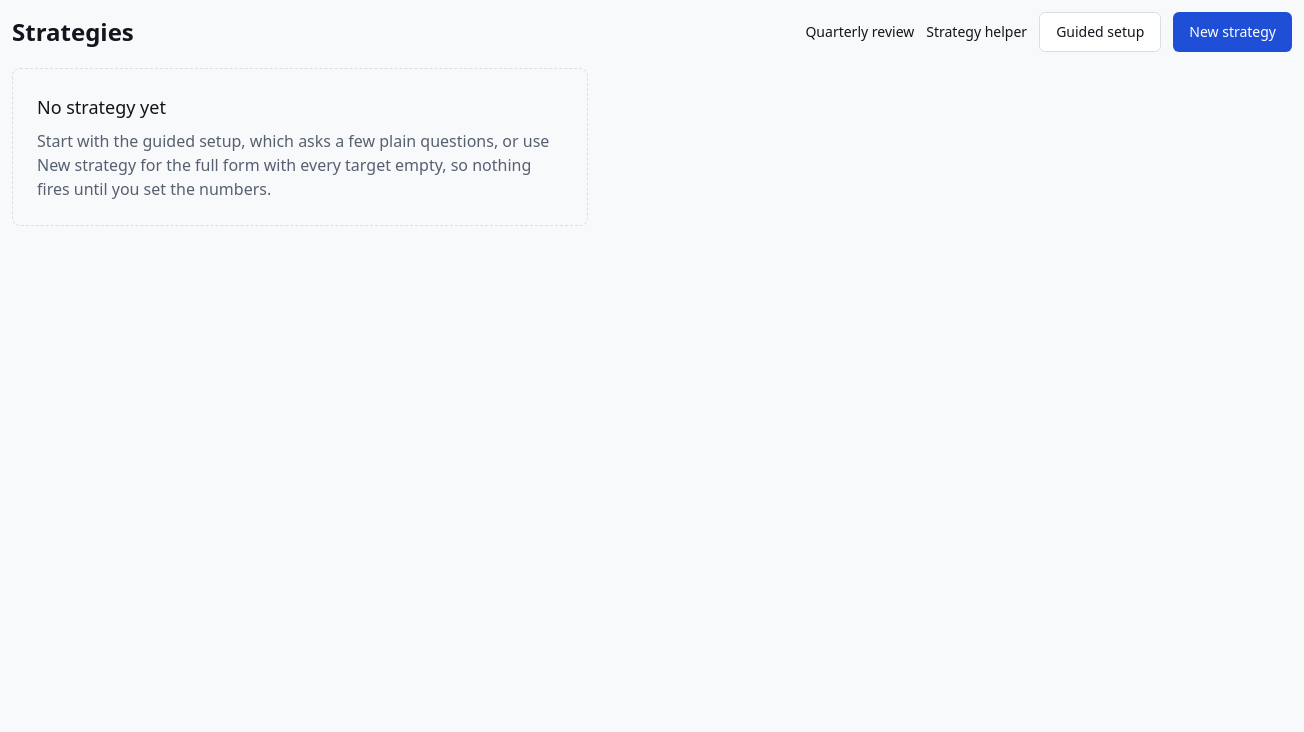
Test: strategies (FR-ST-01, FR-ST-02) › starts from the starter when there is none yet
Expected: the heading "No strategy yet" is shown, [37, 95, 166, 119]
Click the button "New strategy" at (1233,32), box [1173, 12, 1292, 52]
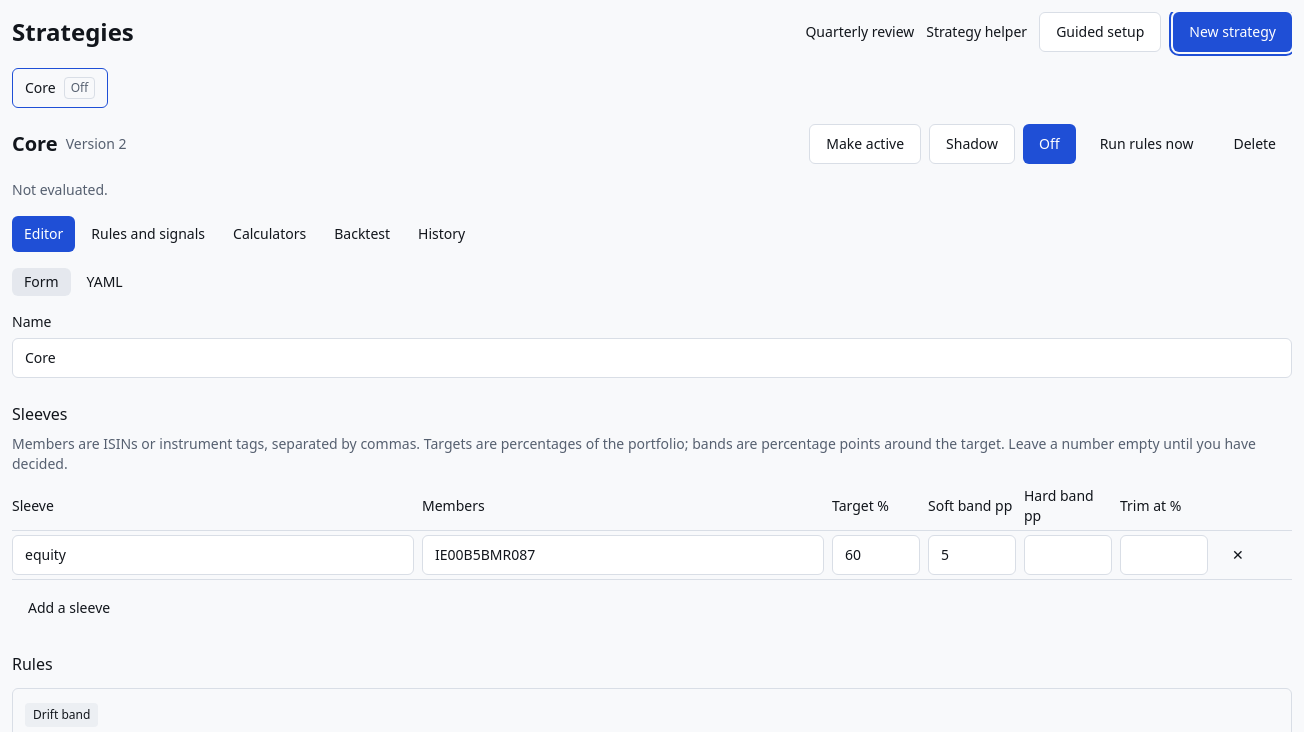
Now the heading "Core" is shown, box [12, 130, 58, 158]
